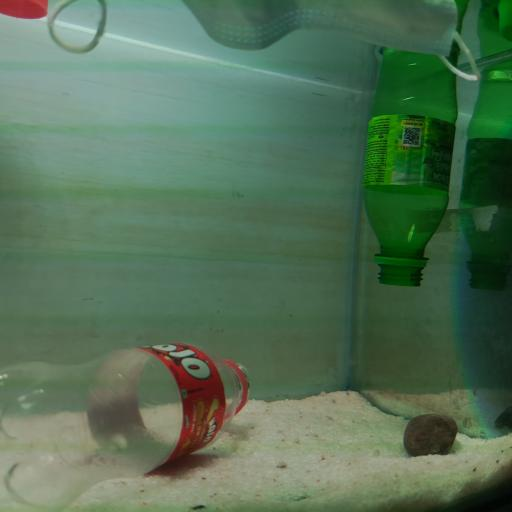bottle_cap: (1, 0, 48, 19)
mask: (50, 4, 483, 81)
plastic_bottle: (1, 341, 253, 508), (363, 38, 461, 288)
